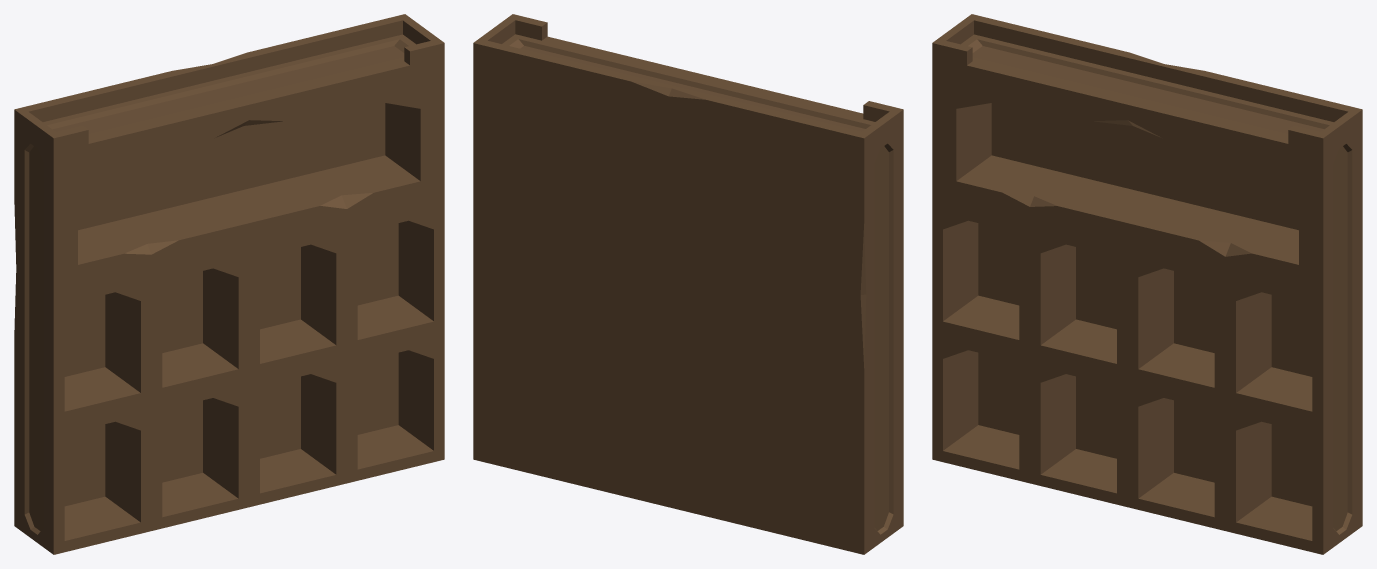
The model's file is SFHW_Shelving_004.fbx.
3 views of the same model, side by side, from view 1: azimuth 30°, elevation 25°; view 2: azimuth 150°, elevation 25°; view 3: azimuth 330°, elevation 25° (orthographic).
Parts seen in each view (by area): view 1: SFHW_Shelving_004; view 2: SFHW_Shelving_004; view 3: SFHW_Shelving_004.
Boxes of the visible parts, x1,y1,x2,y2 form: SFHW_Shelving_004: (14, 14, 444, 554); SFHW_Shelving_004: (473, 14, 903, 554); SFHW_Shelving_004: (932, 14, 1362, 554).
Bounding box in the file's own units: 150 × 152 × 26.28.
